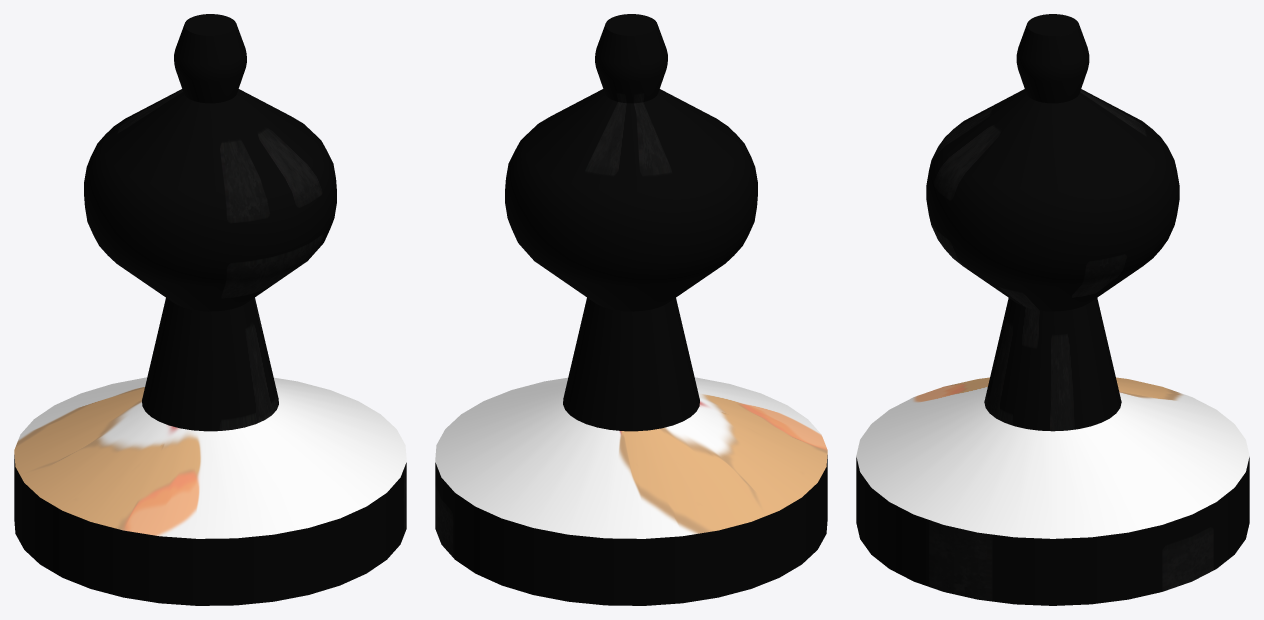
Rendered from pawn_blk.fbx.
3 renders of one model, left to right at view 1: azimuth 30°, elevation 25°; view 2: azimuth 150°, elevation 25°; view 3: azimuth 270°, elevation 25°, orthographic.
Visible parts, largest first — view 1: Cylinder; view 2: Cylinder; view 3: Cylinder.
Boxes of the visible parts, bbox=[...] form: Cylinder: bbox=[14, 14, 406, 605]; Cylinder: bbox=[435, 14, 827, 605]; Cylinder: bbox=[856, 14, 1249, 605].
Size of the model in its own units: 18.98 by 26.5 by 18.98.
